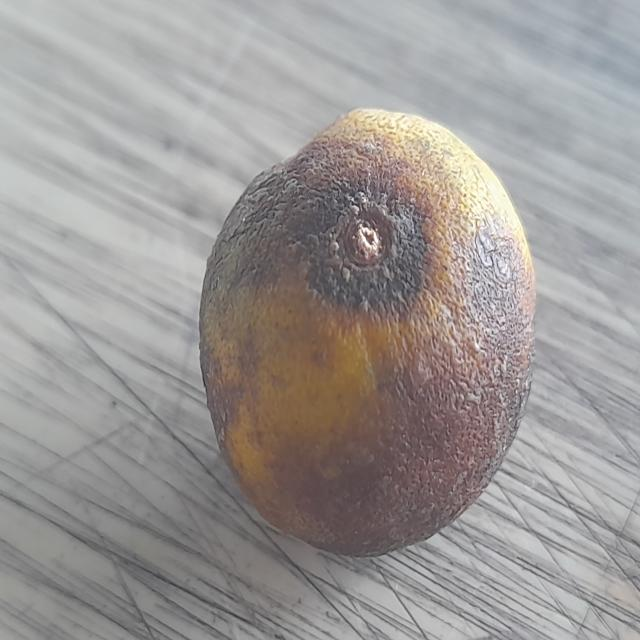black spot: (183, 105, 562, 577)
